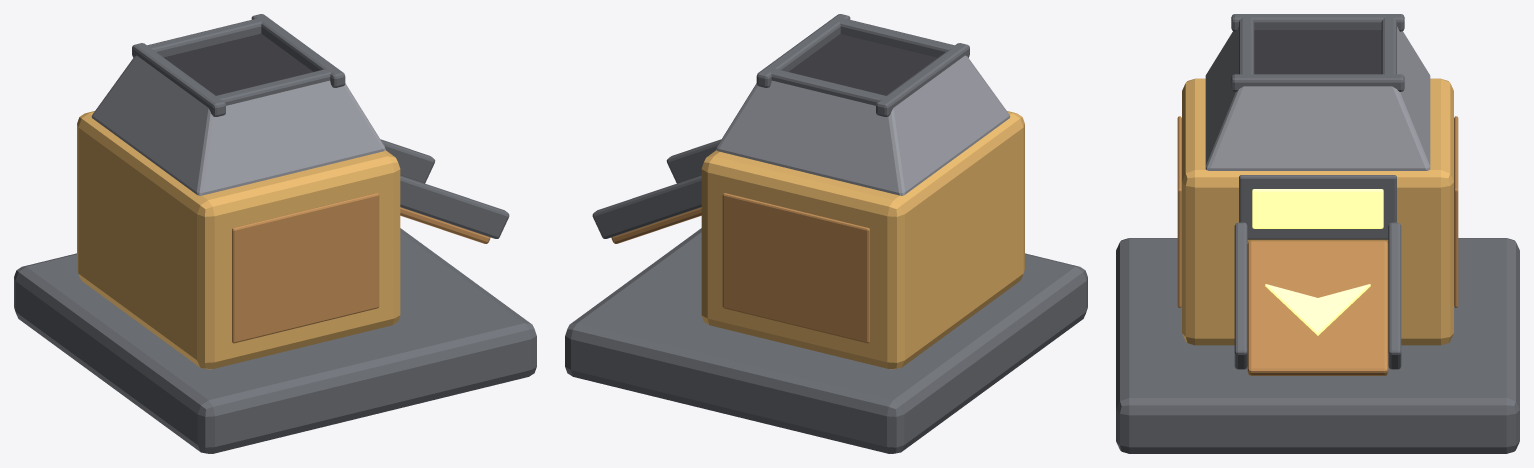
File: generator.glb
3 renders of one model, left to right at view 1: azimuth 30°, elevation 25°; view 2: azimuth 150°, elevation 25°; view 3: azimuth 270°, elevation 25°, orthographic. The views are drawn at different scales.
Visible parts, largest first — view 1: base, housing, hopper, panel, mouth, rail, rim.003, rim.001, rim, rim.002, rail.001, chute; view 2: base, housing, hopper, panel.001, mouth, rail.001, rim.002, rim.001, rim, rim.003, rail, chute; view 3: base, housing, hopper, chute, mouth, core, core_frame, rim, rim.001, chevron, rail, rail.001 (+4 smaller).
Part boxes in pixels (left/top/right/bottom): base: left=14, top=228, right=536, bottom=453; housing: left=77, top=111, right=400, bottom=369; hopper: left=91, top=55, right=385, bottom=195; panel: left=232, top=193, right=379, bottom=343; mouth: left=164, top=34, right=312, bottom=95; rail: left=400, top=175, right=509, bottom=238; rim.003: left=146, top=18, right=262, bottom=57; rim.001: left=251, top=14, right=345, bottom=87; rim: left=132, top=43, right=225, bottom=116; rim.002: left=215, top=69, right=331, bottom=105; rail.001: left=380, top=139, right=435, bottom=183; chute: left=400, top=207, right=490, bottom=243; base: left=565, top=228, right=1087, bottom=453; housing: left=701, top=111, right=1024, bottom=369; hopper: left=716, top=55, right=1010, bottom=195; panel.001: left=722, top=193, right=869, bottom=343; mouth: left=789, top=34, right=937, bottom=95; rail.001: left=592, top=175, right=701, bottom=238; rim.002: left=839, top=18, right=955, bottom=57; rim.001: left=756, top=14, right=850, bottom=87; rim: left=876, top=43, right=969, bottom=116; rim.003: left=770, top=69, right=886, bottom=105; rail: left=666, top=139, right=721, bottom=183; chute: left=611, top=207, right=701, bottom=243; base: left=1116, top=238, right=1519, bottom=453; housing: left=1182, top=78, right=1453, bottom=345; hopper: left=1205, top=26, right=1430, bottom=170; chute: left=1247, top=240, right=1388, bottom=375; mouth: left=1254, top=30, right=1381, bottom=74; core: left=1252, top=189, right=1383, bottom=228; core_frame: left=1239, top=175, right=1396, bottom=239; rim: left=1231, top=14, right=1404, bottom=31; rim.001: left=1231, top=74, right=1404, bottom=91; chevron: left=1265, top=284, right=1370, bottom=335; rail: left=1234, top=222, right=1247, bottom=369; rail.001: left=1388, top=222, right=1401, bottom=369.
Size of the model in its own units: 0.9907 by 0.7875 by 0.92.
